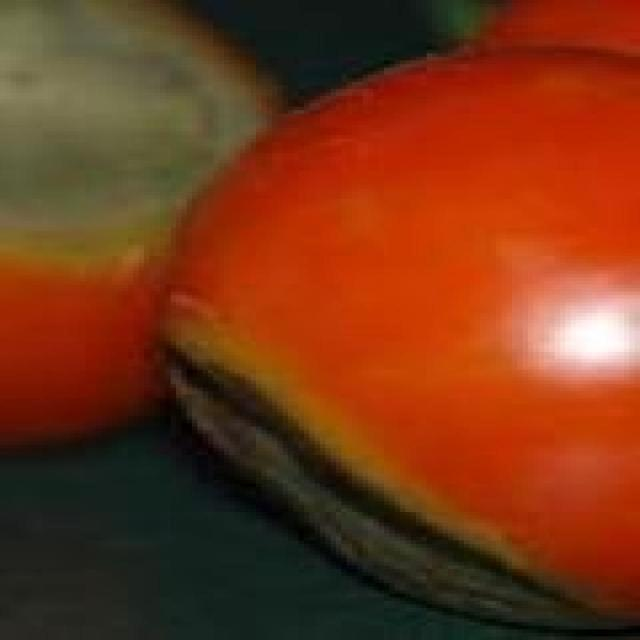Blossom End Rot Fruit: (109, 193, 427, 427)
